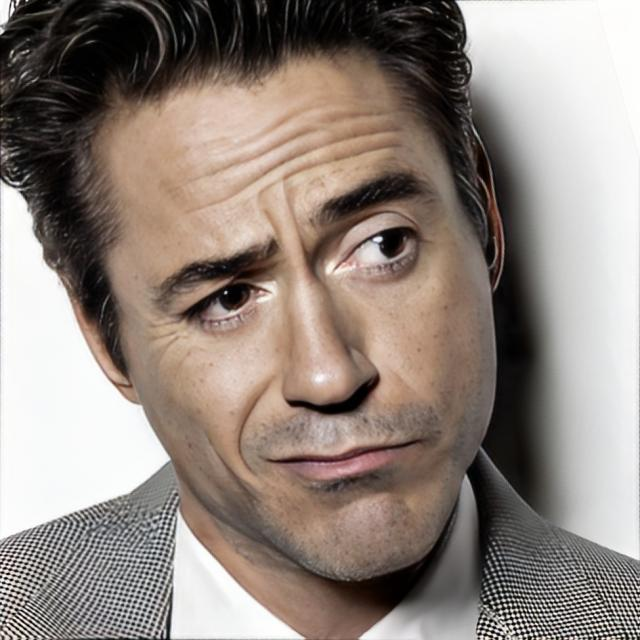content: (77, 49, 500, 585)
